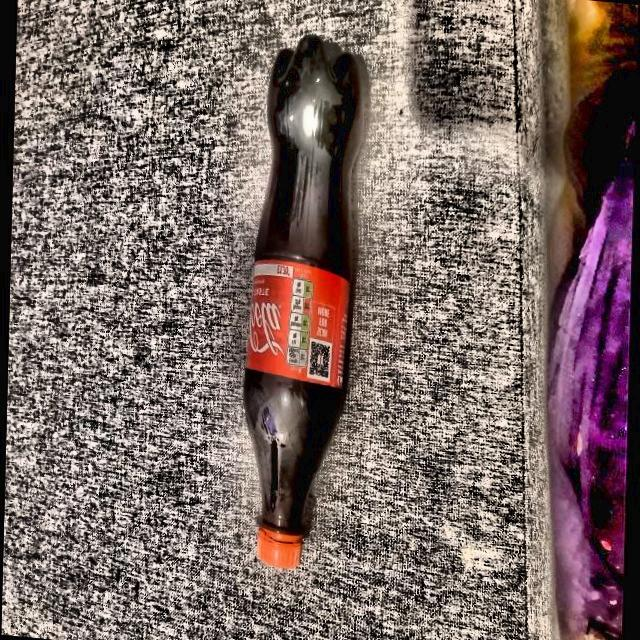coke-bottle: (246, 25, 355, 552)
